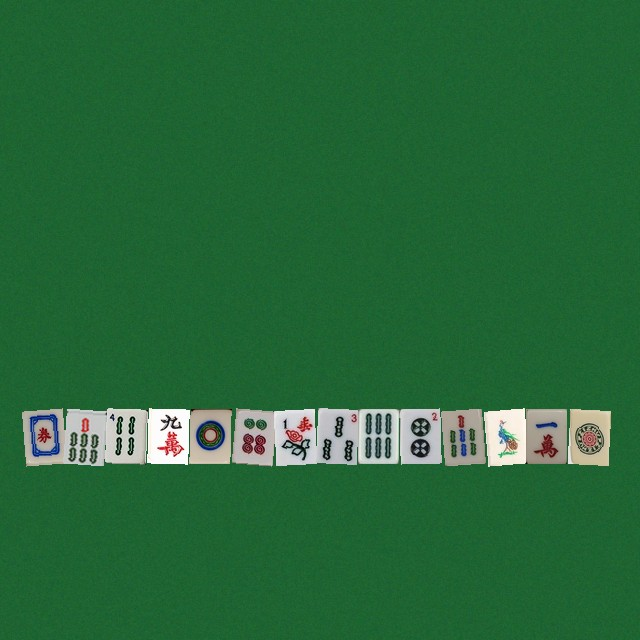tile: (21, 408, 62, 463), (63, 408, 104, 463), (105, 408, 146, 463), (147, 408, 188, 463), (189, 408, 230, 463), (231, 408, 272, 463), (273, 408, 314, 463), (315, 408, 356, 463), (357, 408, 398, 463), (399, 408, 440, 463), (441, 408, 482, 463), (483, 408, 524, 463), (525, 408, 566, 463), (567, 408, 608, 463)
